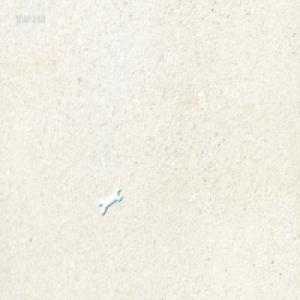Wrench: (99, 185, 122, 213)
